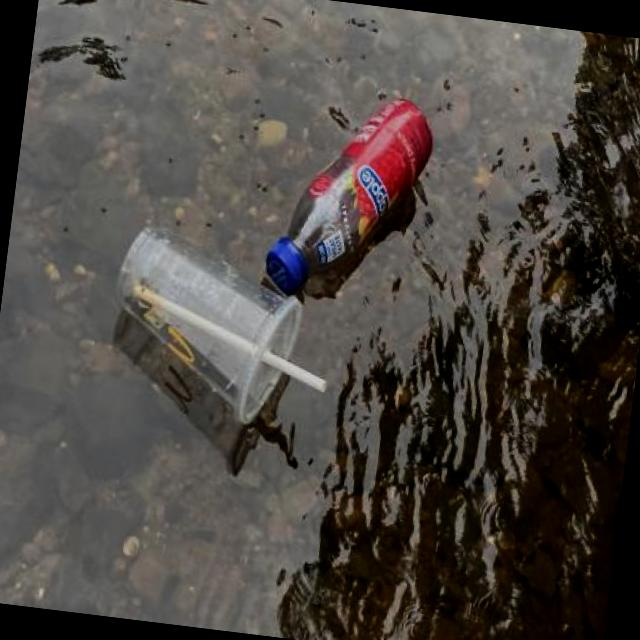Plastic: (94, 211, 350, 444), (251, 72, 448, 320)
